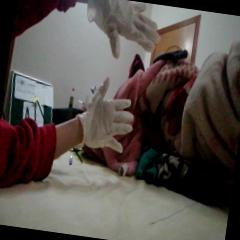gloved: (73, 72, 139, 152), (81, 0, 163, 64)
